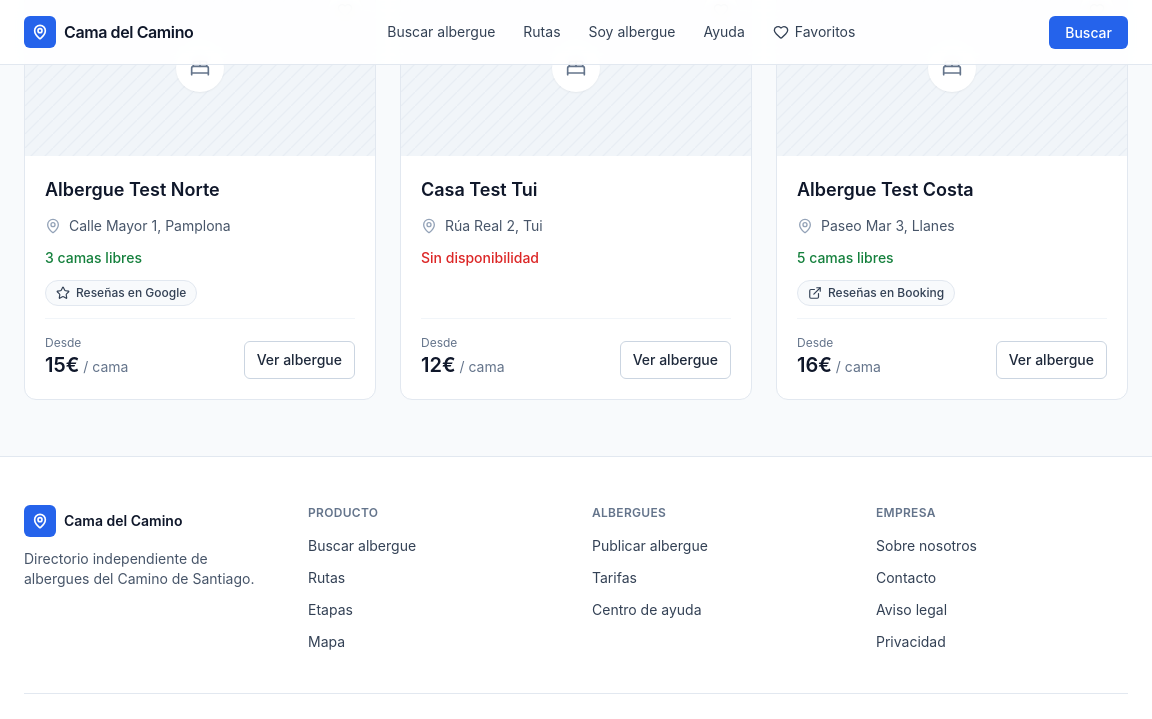
Test: flujo principal: buscar → ver ficha → marcar favorito → aparece en /favoritos
This screenshot has width=1152, height=719.
(page scrolled)
Note: Ver ficha del albergue
What coordinates should you click on to do the following:
click the button with test id "hostel-view-test-norte"
I would click on:
 (299, 360)
Its box is [244, 341, 355, 379].
(page scrolled)
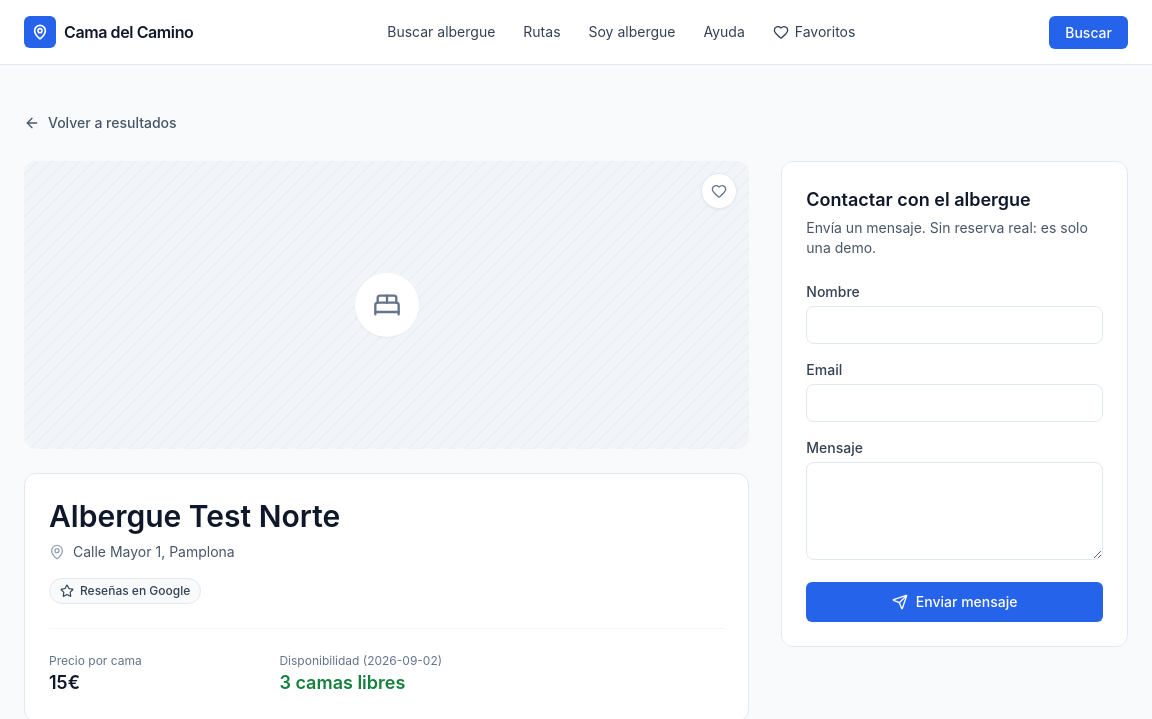
Expected: the heading "Albergue Test Norte" is shown, [49, 498, 340, 534]
Note: Marcar favorito (persiste en localStorage, sin red)
What coordinates should you click on to do the following:
click the button with test id "favorite-test-norte"
I would click on:
 (719, 191)
Its box is [701, 173, 737, 209].
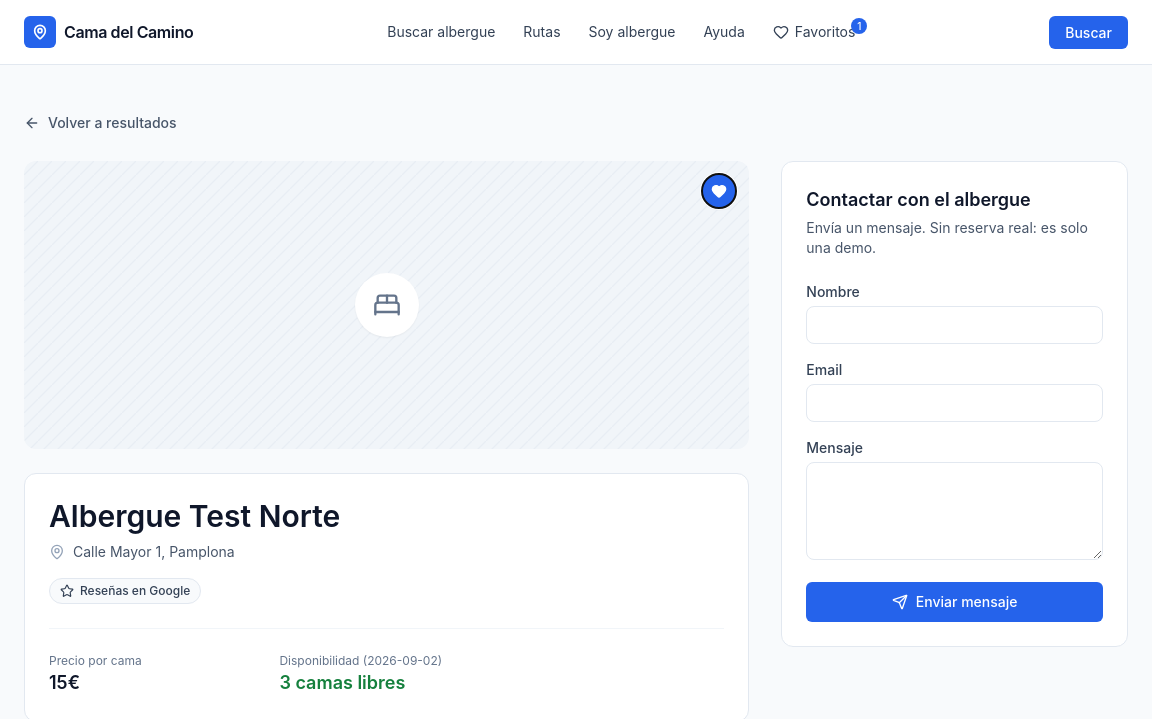
Note: Navegar a /favoritos desde el header: el albergue está ahí
What coordinates should you click on to do the following:
click the link with test id "nav-favoritos"
I would click on:
 (814, 32)
Its box is [773, 22, 855, 42].
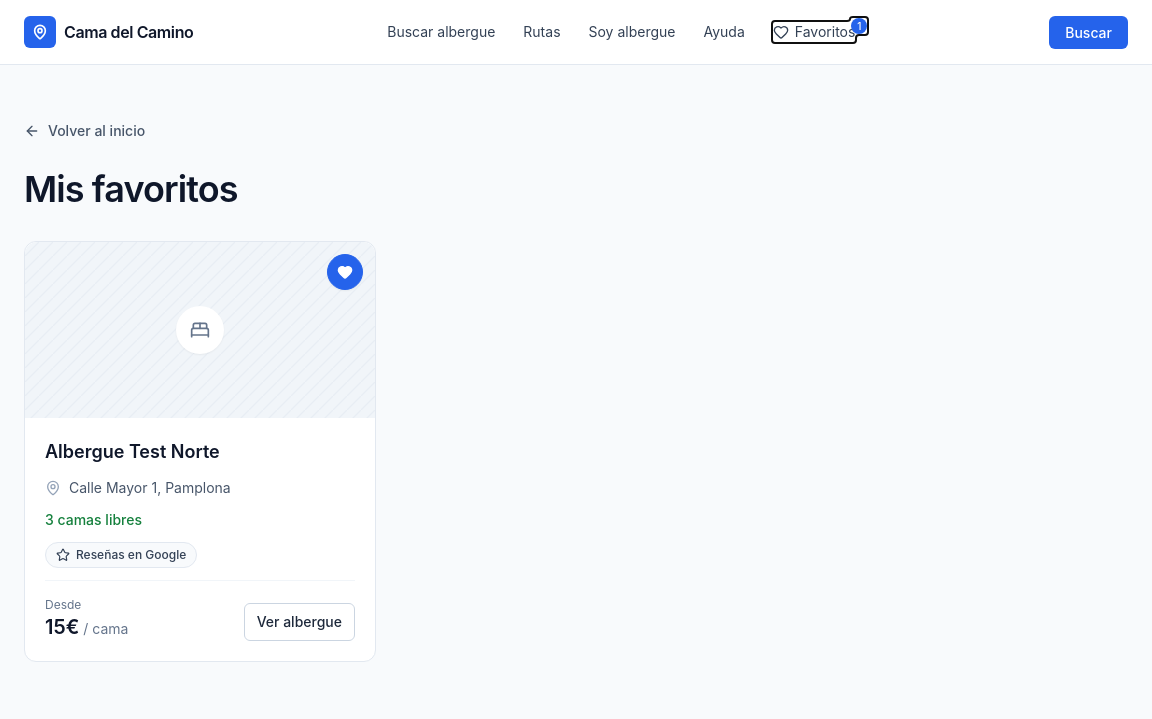
Now the element with test id "hostel-card-test-norte" is shown, box [24, 241, 376, 662]
